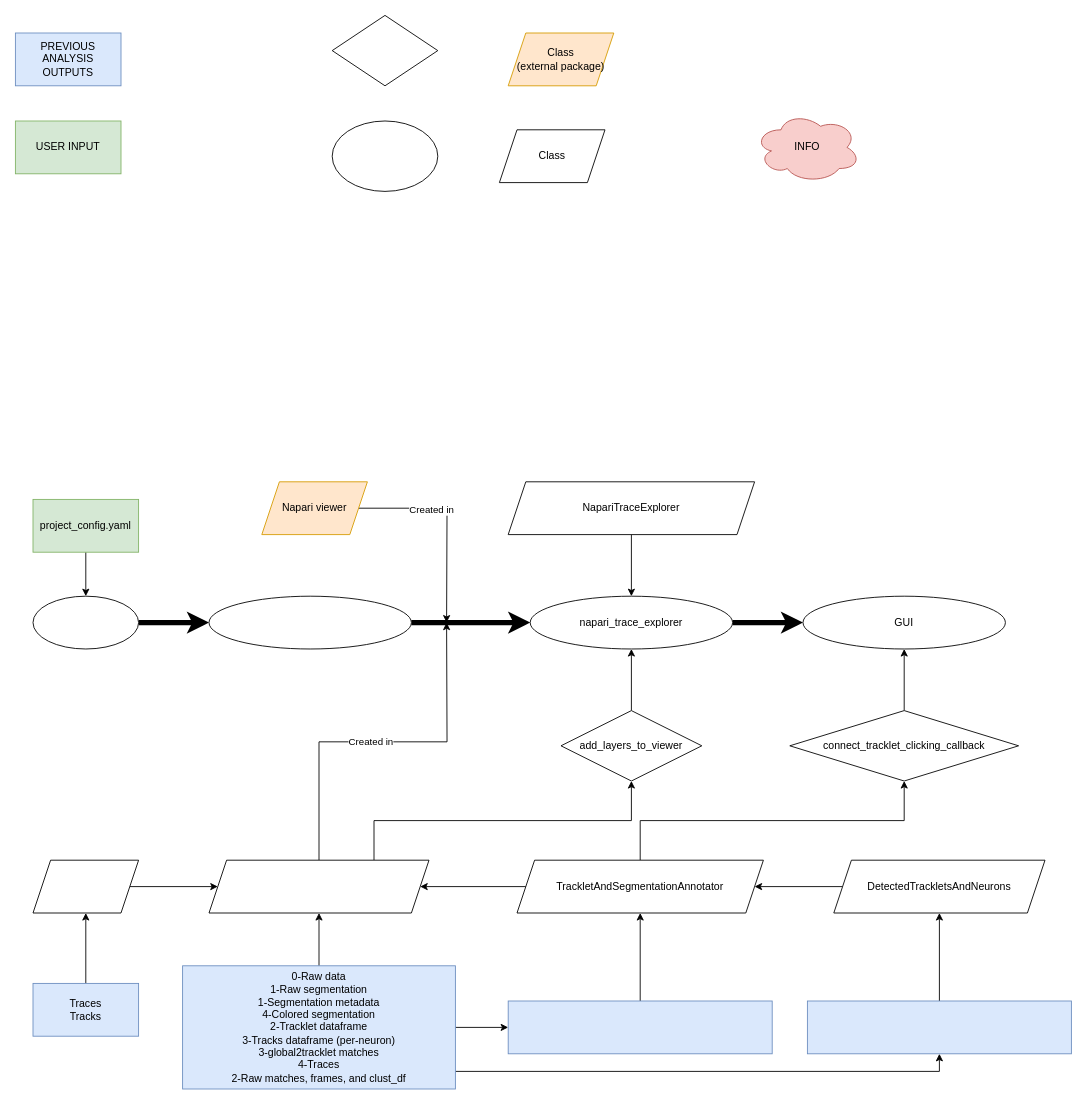
The diagram is 1087 pixels wide and 1104 high, and some of its shapes have lost their labels. The shapes that lost their labels are listed below. From the top down, each one's centre as x and y in pixels, then its label:
At point (384, 50): "METHOD (of class)".
At point (384, 155): "FUNCTION".
At point (85, 622): "trace_explorer.py".
At point (309, 622): "napari_trace_explorer_from_config".
At point (85, 886): "TracePlotter".
At point (318, 886): "ProjectData".
At point (639, 1027): "global2tracklet matches Segmentation metadata".
At point (939, 1027): "Tracklet dataframe Segmentation metadata Clust_df".
